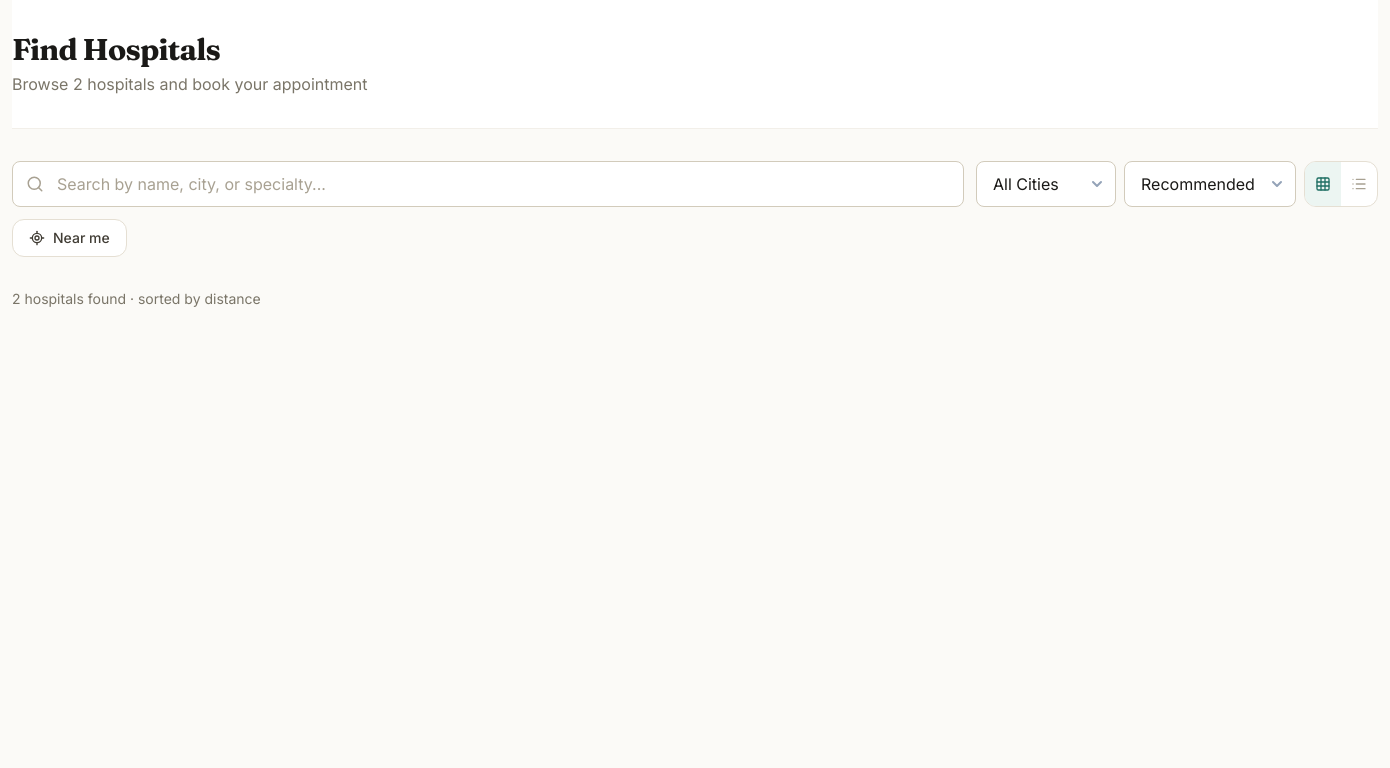
Test: Hospitals page (nearby search wiring) › filters to hospitals within the radius when "Near me" is on
What coordinates should you click on to do the following:
click the button "Near me"
I would click on:
 (69, 238)
Its box is [12, 219, 127, 257].
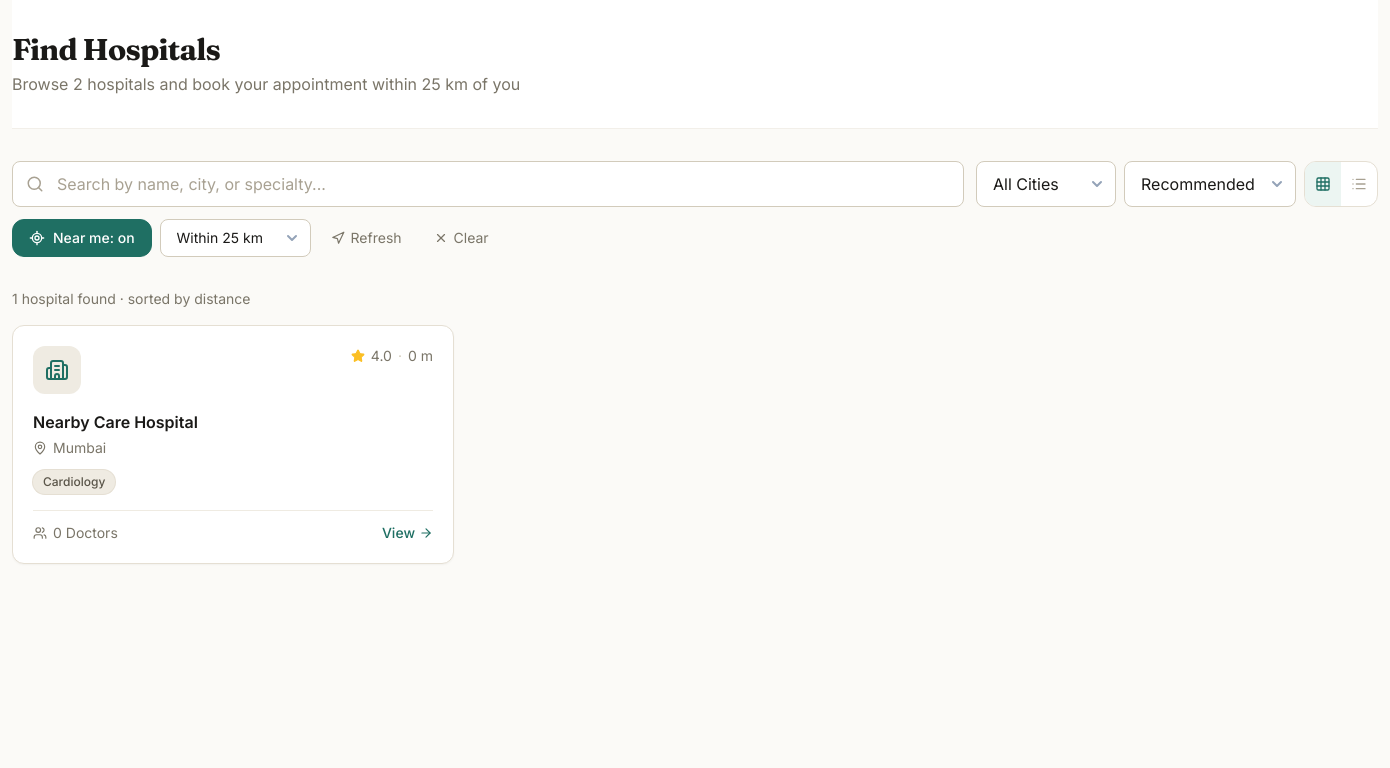
Result: the heading "Nearby Care Hospital" is shown at [33, 412, 198, 432]
Result: the text "1 hospital found · sorted by distance" is shown at [12, 290, 250, 307]
